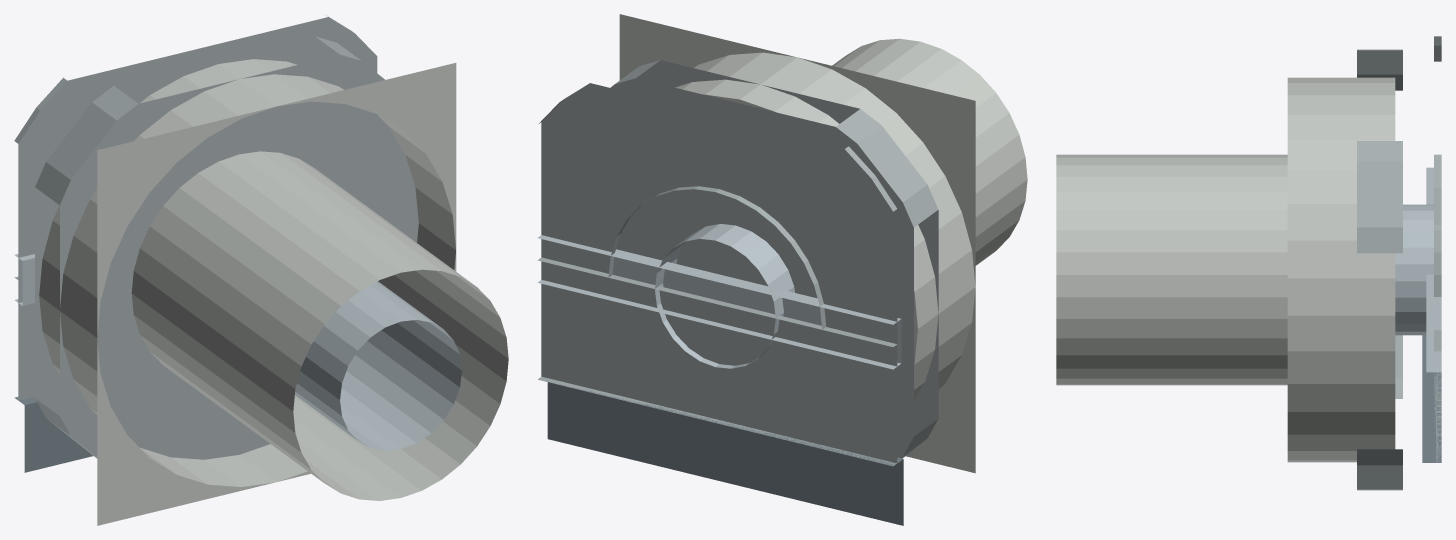
File: cell_97.obj
The picture shows the model from 3 angles, left to right: view 1: azimuth 30°, elevation 25°; view 2: azimuth 150°, elevation 25°; view 3: azimuth 270°, elevation 25°; orthographic projection. The views are drawn at different scales.
Size of the model in its own units: 1 by 1 by 1.
